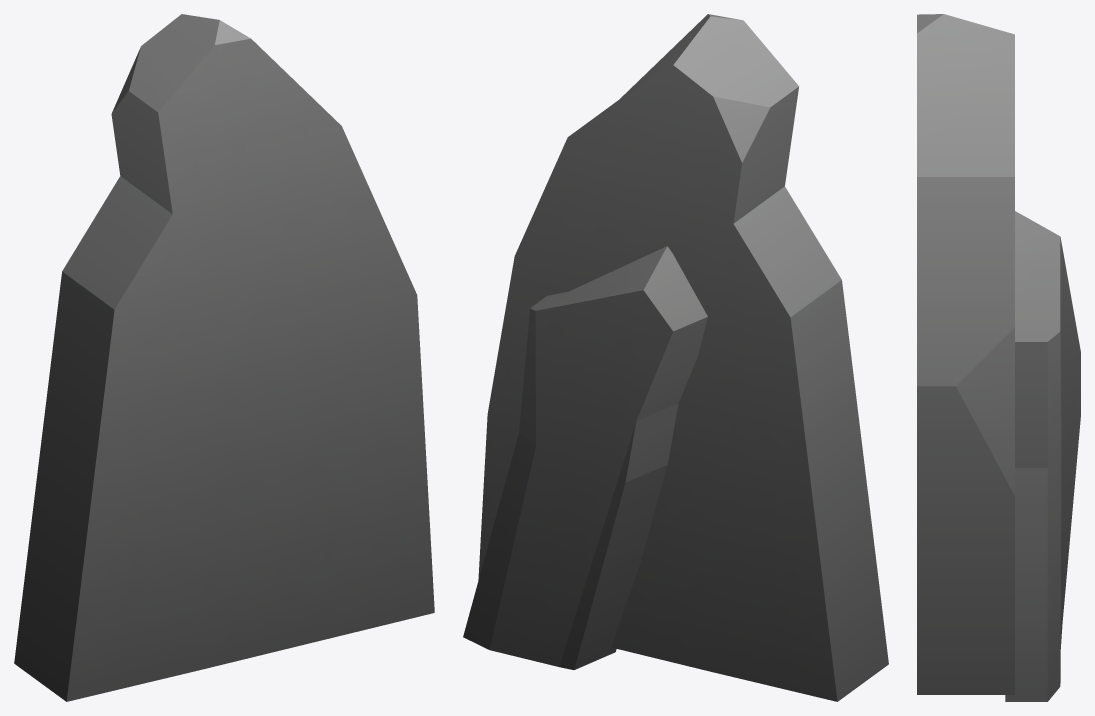
File: Rock004.fbx
3 renders of one model, left to right at view 1: azimuth 30°, elevation 25°; view 2: azimuth 150°, elevation 25°; view 3: azimuth 270°, elevation 25°, orthographic. The views are drawn at different scales.
Visible parts, largest first — view 1: Cylinder.015; view 2: Cylinder.015; view 3: Cylinder.015.
Part boxes in pixels (bbox=[...]): Cylinder.015: bbox=[14, 14, 434, 701]; Cylinder.015: bbox=[463, 14, 888, 701]; Cylinder.015: bbox=[917, 14, 1080, 701].
Size of the model in its own units: 216 by 358 by 88.89.
